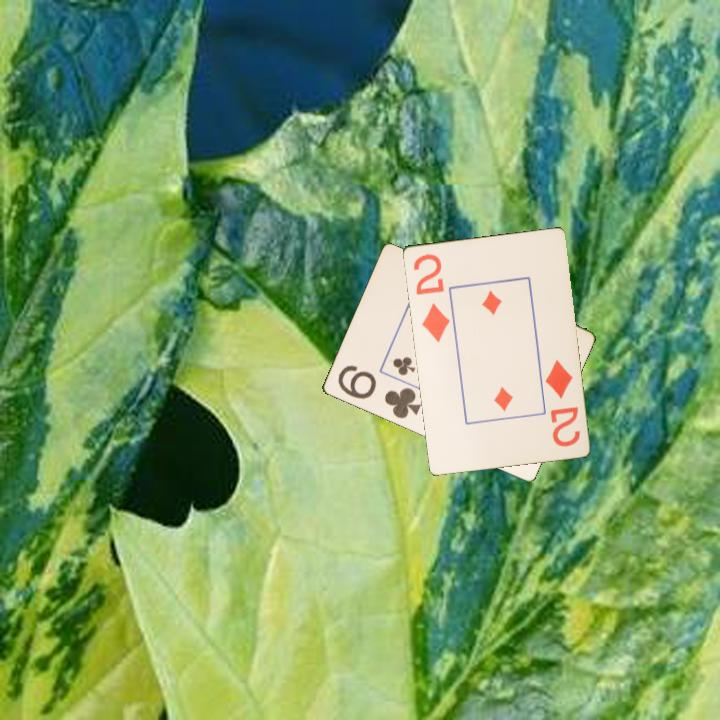2d: (410, 250, 452, 345), (541, 356, 583, 449)
6c: (334, 361, 423, 422)
